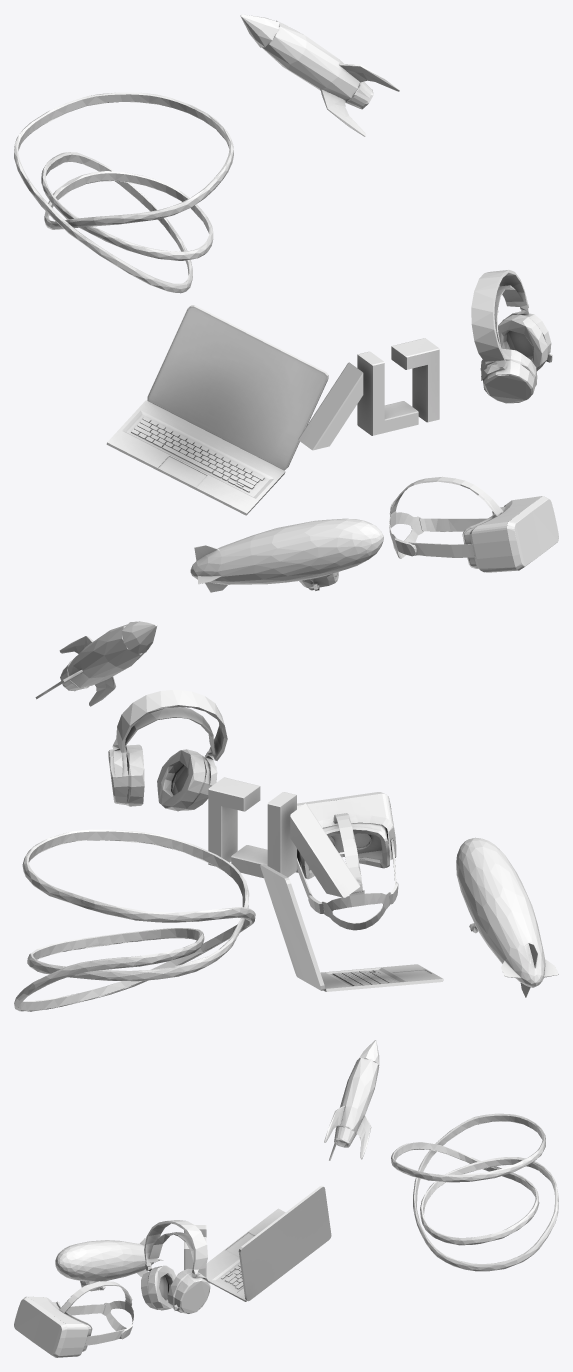
File: music_hero-transformed.glb
3 renders of one model, top to bottom at view 1: azimuth 30°, elevation 25°; view 2: azimuth 150°, elevation 25°; view 3: azimuth 270°, elevation 25°, orthographic. The views are drawn at different scales.
Visible parts, largest first — view 1: Notebook, Curly, Zeppelin, VR Headset, Altair Studio-Logo, Headphones, Rocket.003; view 2: Curly, Altair Studio-Logo, Headphones, Zeppelin, VR Headset, Notebook, Rocket.003; view 3: Notebook, Curly, VR Headset, Headphones, Zeppelin, Rocket.003.
Part boxes in pixels (x1,y1,x2,y2): Notebook: [106, 305, 328, 515]; Curly: [14, 92, 233, 293]; Zeppelin: [190, 518, 383, 592]; VR Headset: [389, 476, 558, 572]; Altair Studio-Logo: [298, 338, 439, 450]; Headphones: [471, 270, 552, 403]; Rocket.003: [240, 14, 400, 136]; Curly: [14, 829, 255, 1011]; Altair Studio-Logo: [208, 777, 360, 897]; Headphones: [108, 690, 227, 811]; Zeppelin: [456, 837, 558, 997]; VR Headset: [295, 792, 398, 930]; Notebook: [260, 864, 443, 991]; Rocket.003: [35, 621, 156, 706]; Notebook: [206, 1185, 331, 1301]; Curly: [391, 1113, 558, 1271]; VR Headset: [14, 1281, 134, 1357]; Headphones: [141, 1220, 210, 1313]; Zeppelin: [55, 1238, 163, 1291]; Rocket.003: [324, 1040, 379, 1160].
Size of the model in its own units: 63.68 by 65.82 by 107.
7 materials, 7 textured.
